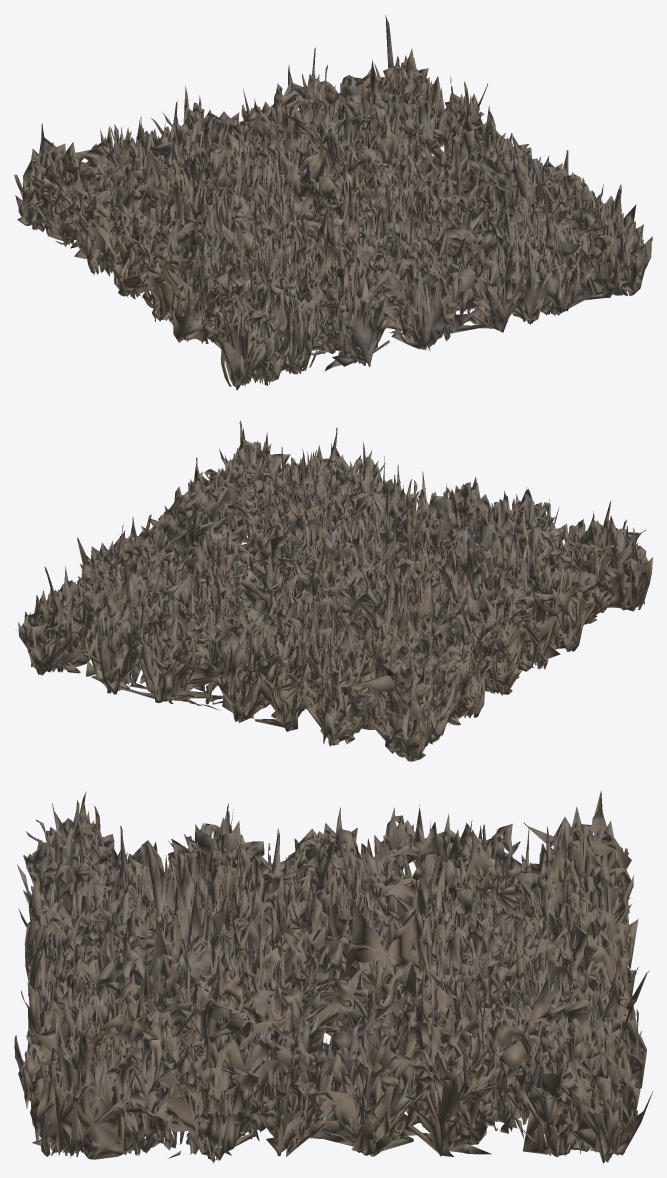
The model's file is Meshy_AI_Verdant_Symmetry_1115233317_texture.glb.
3 views of the same model, one above another, from view 1: azimuth 30°, elevation 25°; view 2: azimuth 150°, elevation 25°; view 3: azimuth 270°, elevation 25° (orthographic). The views are drawn at different scales.
Bounding box in the file's own units: 1.93 × 0.5145 × 1.95.
Materials: 1 (1 with a texture image).
